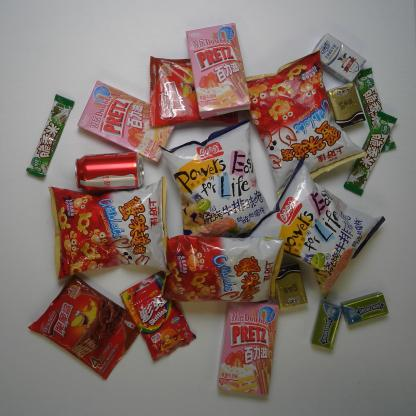Candy: (118, 268, 198, 364)
Chocolate: (343, 109, 398, 197), (24, 92, 76, 180), (353, 66, 398, 154)
Dessert: (25, 272, 144, 382), (76, 78, 177, 165), (145, 53, 242, 128), (184, 22, 252, 121), (216, 299, 282, 398)
Drink: (72, 149, 146, 193)
Gum: (308, 299, 344, 351), (339, 290, 389, 326)
Milk: (309, 31, 368, 87)
Puffed Food: (244, 151, 388, 304), (242, 47, 369, 199), (156, 114, 274, 243), (45, 174, 178, 283), (158, 230, 286, 307)
Tissue: (322, 81, 367, 131), (270, 261, 309, 311)
